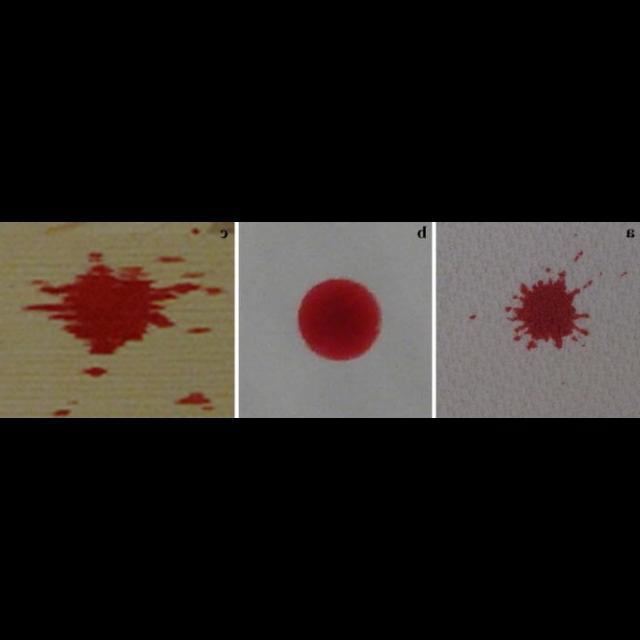blood: (25, 264, 201, 355), (296, 277, 382, 361), (505, 270, 589, 350)
